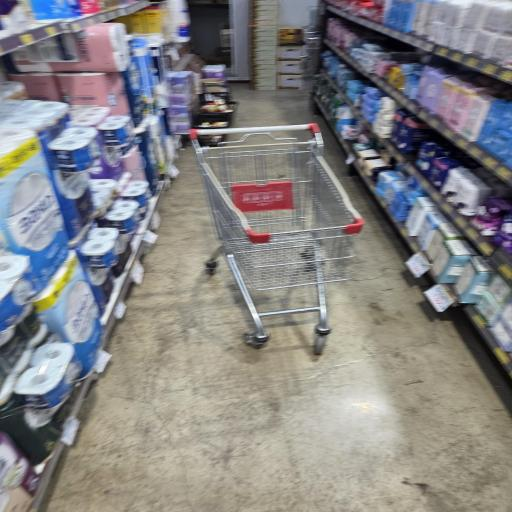empty_cart: (186, 122, 365, 350)
